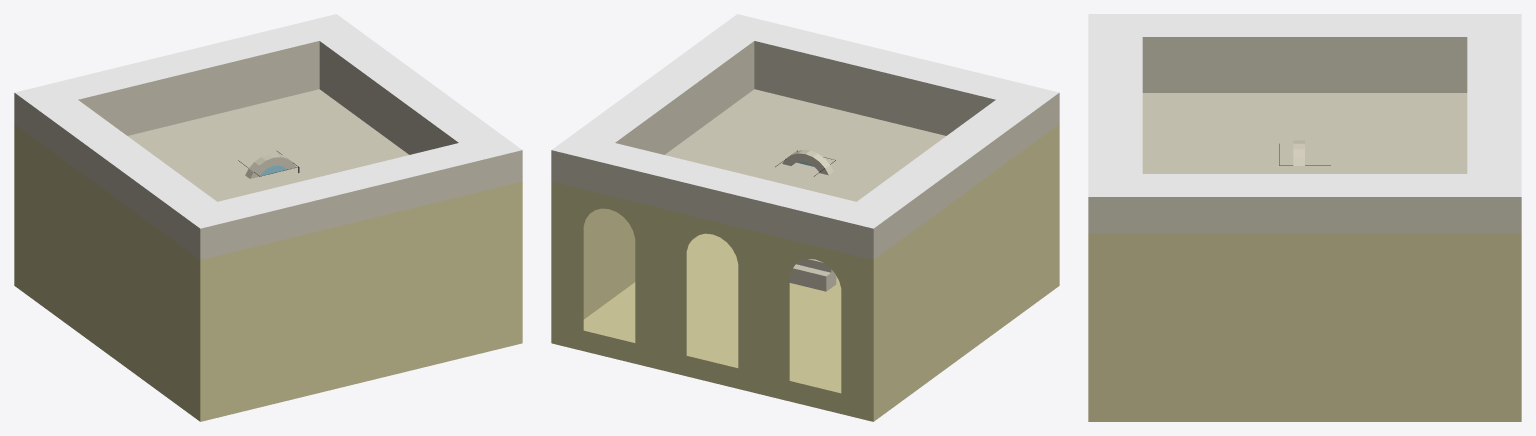
File: Building 53.FBX
3 renders of one model, left to right at view 1: azimuth 30°, elevation 25°; view 2: azimuth 150°, elevation 25°; view 3: azimuth 270°, elevation 25°, orthographic. The views are drawn at different scales.
Parts seen in each view (by area): view 1: Group44; view 2: Group44, Group45, Group47, Group46; view 3: Group44.
Part boxes in pixels (<box>): Group44: <box>14,14,522,421</box>; Group44: <box>551,14,1059,421</box>; Group45: <box>782,150,828,291</box>; Group47: <box>789,153,836,291</box>; Group46: <box>782,150,831,272</box>; Group44: <box>1088,14,1521,421</box>.
Bounding box in the file's own units: 29.53 × 16.93 × 29.53.
